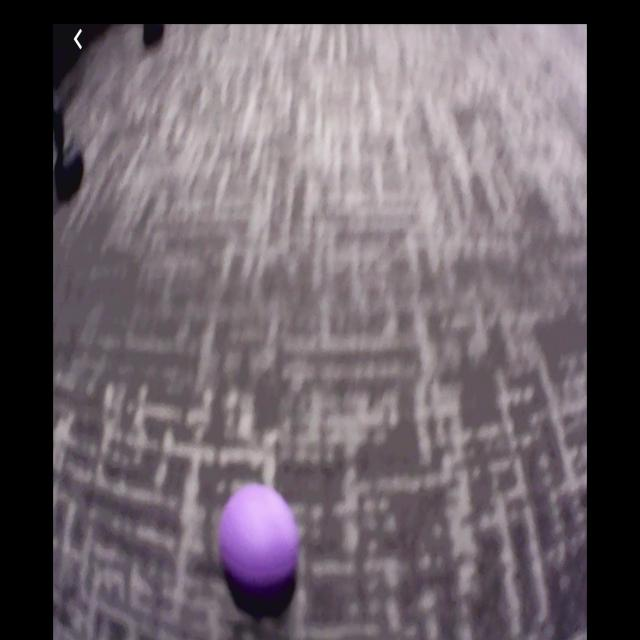ball: (224, 488, 299, 591)
